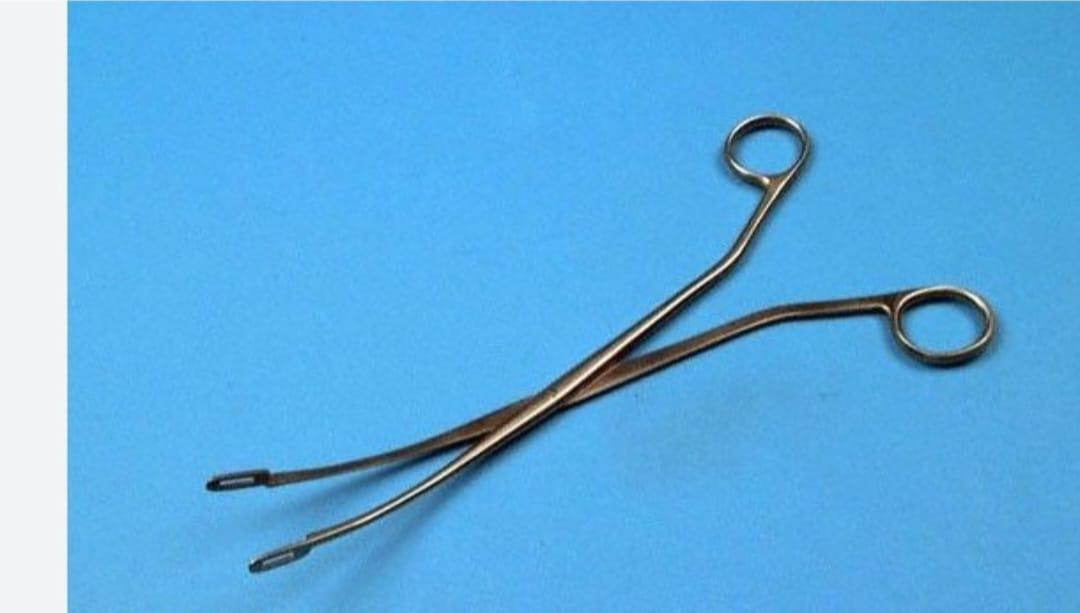Desjardin Forceps: (188, 99, 1005, 586)
